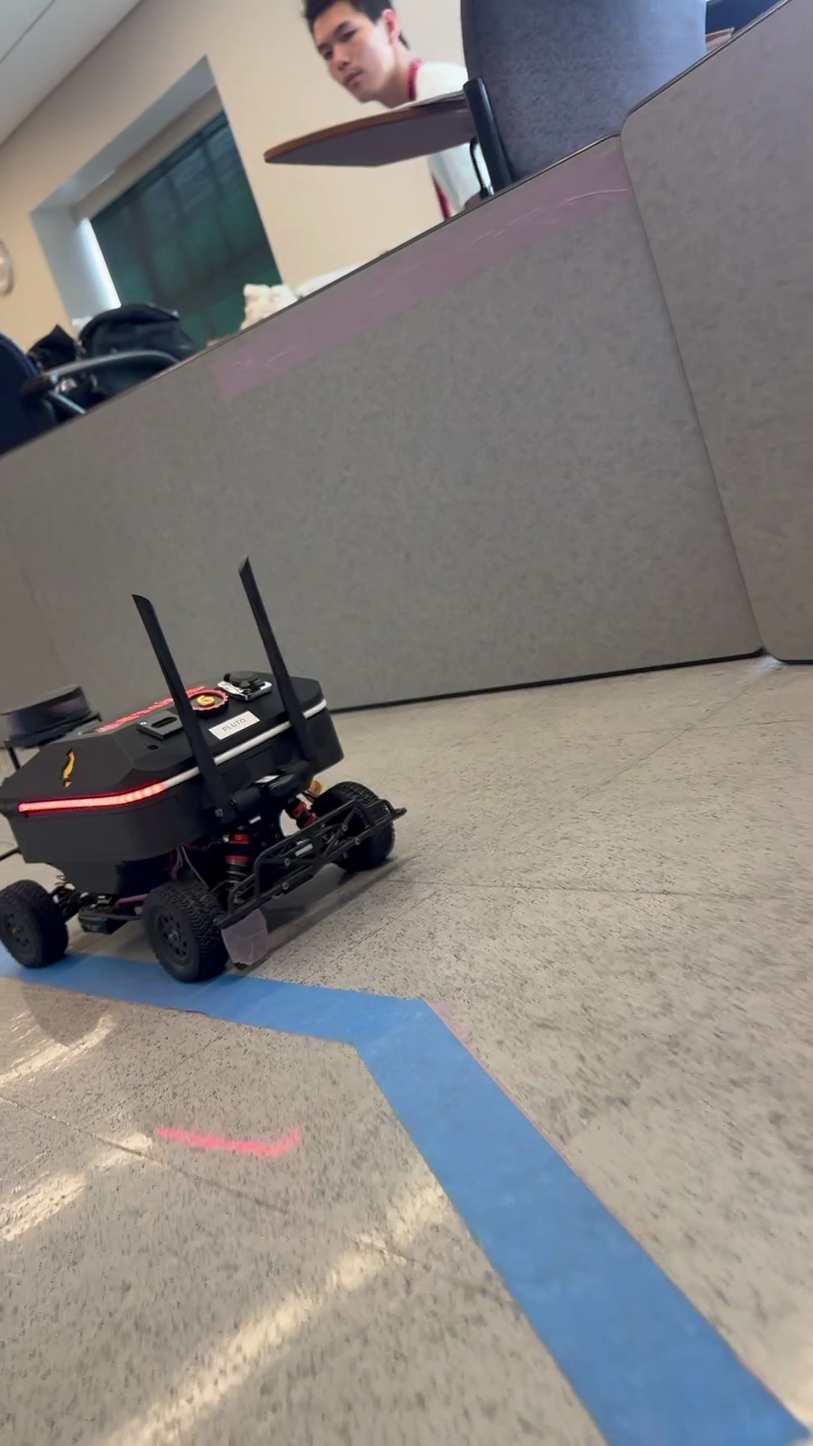racecar: (0, 559, 403, 983)
